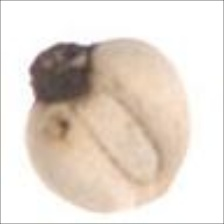L5: (73, 86, 164, 183), (21, 40, 100, 109), (133, 154, 185, 209)
L6: (22, 35, 194, 216)
